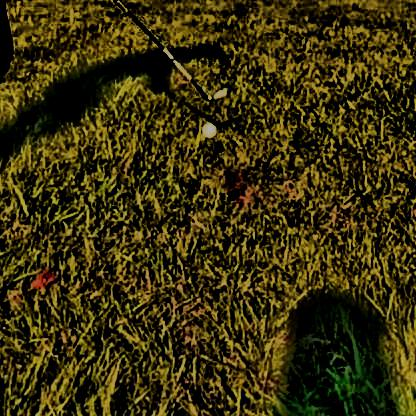golfball: (198, 118, 215, 135)
